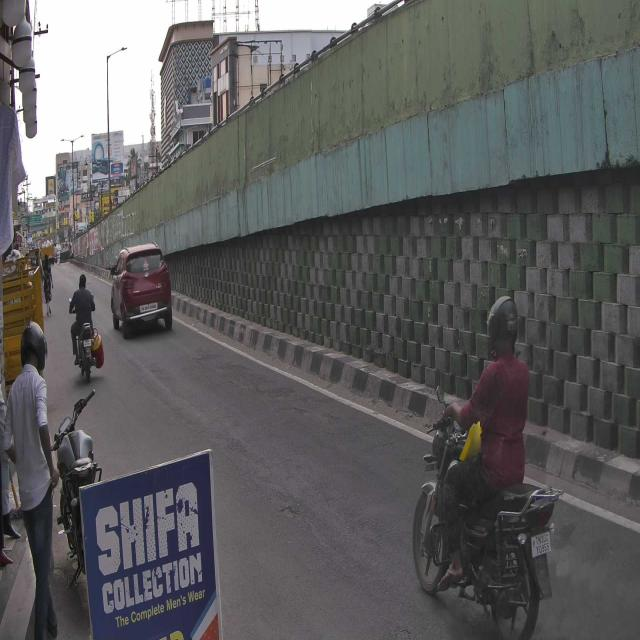single_rider: (411, 290, 564, 640)
